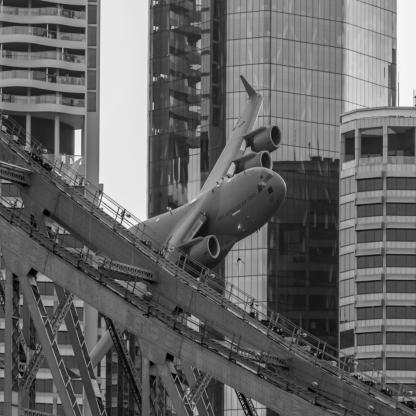C17: (62, 75, 288, 382)
